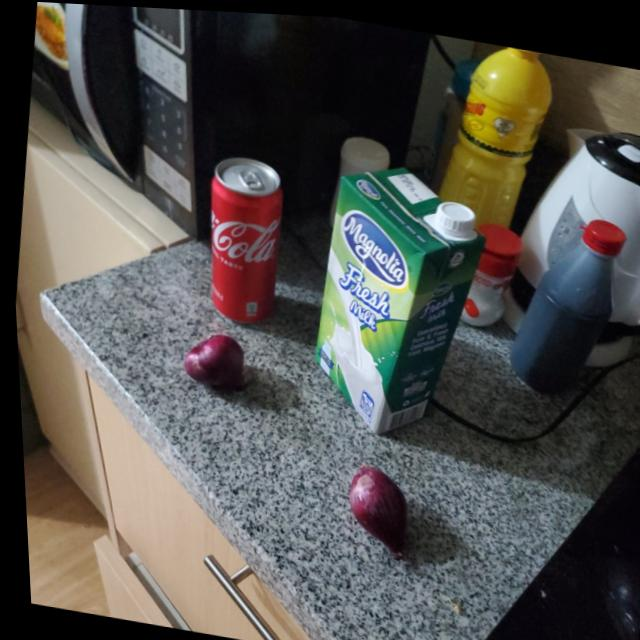coke: (191, 145, 291, 327)
milk: (289, 146, 496, 439)
onion: (334, 454, 410, 559), (173, 325, 244, 398)
